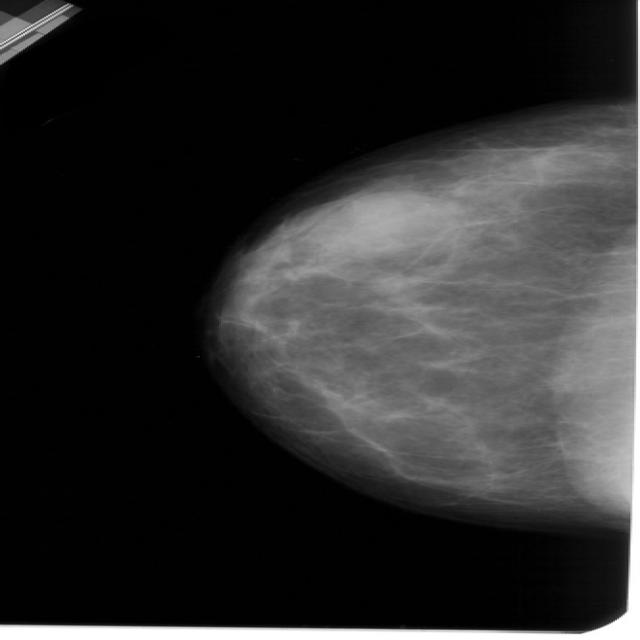tumour: (307, 190, 453, 253)
